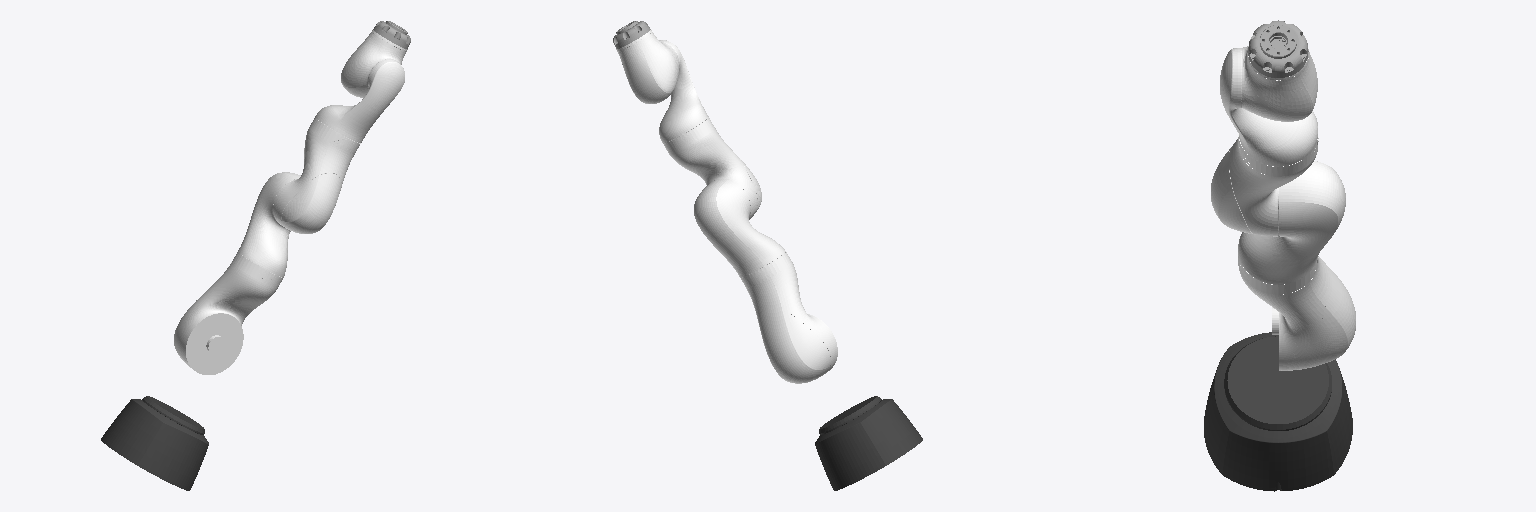
robot.urdf — lbrMed_withBaseLink_Frames.sldasm:
<?xml version="1.0" encoding="utf-8"?>
<!-- This URDF was automatically created by SolidWorks to URDF Exporter! Originally created by [author] ([email redacted]) 
     Commit Version: 1.5.1-0-g916b5db  Build Version: 1.5.7152.31018
     For more information, please see http://wiki.ros.org/sw_urdf_exporter -->
<robot
  name="lbrMed_withBaseLink_Frames.sldasm">
  <link
    name="ROBERT_platform">
    <inertial>
      <origin
        xyz="0.0036381 -6.431E-05 0.45105"
        rpy="0 0 0" />
      <mass
        value="19.445" />
      <inertia
        ixx="0.69187"
        ixy="-0.0004376"
        ixz="0.013118"
        iyy="0.4732"
        iyz="0.00043165"
        izz="0.651" />
    </inertial>
    <visual>
      <origin
        xyz="0 0 0"
        rpy="0 0 0" />
      <geometry>
        <mesh
          filename="package://lbrMed_withBaseLink_Frames.sldasm/meshes/ROBERT_platform.STL" />
      </geometry>
      <material
        name="">
        <color
          rgba="0.52 0.52 0.52 1" />
      </material>
    </visual>
    <collision>
      <origin
        xyz="0 0 0"
        rpy="0 0 0" />
      <geometry>
        <mesh
          filename="package://lbrMed_withBaseLink_Frames.sldasm/meshes/ROBERT_platform.STL" />
      </geometry>
    </collision>
  </link>
  <link
    name="ROBERT_base">
    <inertial>
      <origin
        xyz="0.041359 4.9507E-08 0.99543"
        rpy="0 0 0" />
      <mass
        value="6.0056" />
      <inertia
        ixx="0.036487"
        ixy="2.0024E-08"
        ixz="0.0057256"
        iyy="0.033522"
        iyz="-2.2832E-08"
        izz="0.041893" />
    </inertial>
    <visual>
      <origin
        xyz="0 0 0"
        rpy="0 0 0" />
      <geometry>
        <mesh
          filename="package://lbrMed_withBaseLink_Frames.sldasm/meshes/ROBERT_base.STL" />
      </geometry>
      <material
        name="">
        <color
          rgba="0.32 0.32 0.32 1" />
      </material>
    </visual>
    <collision>
      <origin
        xyz="0 0 0"
        rpy="0 0 0" />
      <geometry>
        <mesh
          filename="package://lbrMed_withBaseLink_Frames.sldasm/meshes/ROBERT_base.STL" />
      </geometry>
    </collision>
  </link>
  <joint
    name="ROBERT_fixed"
    type="fixed">
    <origin
      xyz="0 0 0"
      rpy="0 0 0" />
    <parent
      link="ROBERT_platform" />
    <child
      link="ROBERT_base" />
    <axis
      xyz="0 0 0" />
    <limit
      lower="-2.967"
      upper="2.967"
      effort="10"
      velocity="3" />
  </joint>
  <link
    name="ROBERT_shoulder">
    <inertial>
      <origin
        xyz="-1.0921E-06 -0.033794 0.1277"
        rpy="0 0 0" />
      <mass
        value="4.1086" />
      <inertia
        ixx="0.032982"
        ixy="4.1814E-08"
        ixz="3.7416E-07"
        iyy="0.033274"
        iyz="0.0049257"
        izz="0.012326" />
    </inertial>
    <visual>
      <origin
        xyz="0 0 0"
        rpy="0 0 0" />
      <geometry>
        <mesh
          filename="package://lbrMed_withBaseLink_Frames.sldasm/meshes/ROBERT_shoulder.STL" />
      </geometry>
      <material
        name="">
        <color
          rgba="1 1 1 1" />
      </material>
    </visual>
    <collision>
      <origin
        xyz="0 0 0"
        rpy="0 0 0" />
      <geometry>
        <mesh
          filename="package://lbrMed_withBaseLink_Frames.sldasm/meshes/ROBERT_shoulder.STL" />
      </geometry>
    </collision>
  </link>
  <joint
    name="ROBERT_joint1"
    type="revolute">
    <origin
      xyz="0.085578 0 1.0553"
      rpy="0 0.61087 0" />
    <parent
      link="ROBERT_base" />
    <child
      link="ROBERT_shoulder" />
    <axis
      xyz="0 0 -1" />
    <limit
      lower="-2.967"
      upper="2.967"
      effort="350"
      velocity="3" />
  </joint>
  <link
    name="ROBERT_lowerArm">
    <inertial>
      <origin
        xyz="0.00013064 -0.07633 0.037544"
        rpy="0 0 0" />
      <mass
        value="4.4185" />
      <inertia
        ixx="0.04286"
        ixy="-4.2906E-05"
        ixz="-2.4964E-05"
        iyy="0.012833"
        iyz="-0.0077921"
        izz="0.041927" />
    </inertial>
    <visual>
      <origin
        xyz="0 0 0"
        rpy="0 0 0" />
      <geometry>
        <mesh
          filename="package://lbrMed_withBaseLink_Frames.sldasm/meshes/ROBERT_lowerArm.STL" />
      </geometry>
      <material
        name="">
        <color
          rgba="1 1 1 1" />
      </material>
    </visual>
    <collision>
      <origin
        xyz="0 0 0"
        rpy="0 0 0" />
      <geometry>
        <mesh
          filename="package://lbrMed_withBaseLink_Frames.sldasm/meshes/ROBERT_lowerArm.STL" />
      </geometry>
    </collision>
  </link>
  <joint
    name="ROBERT_joint2"
    type="revolute">
    <origin
      xyz="0 0 0.2078"
      rpy="-1.5708 0 0" />
    <parent
      link="ROBERT_shoulder" />
    <child
      link="ROBERT_lowerArm" />
    <axis
      xyz="0 0 -1" />
    <limit
      lower="-2.0943"
      upper="2.0943"
      effort="350"
      velocity="3" />
  </joint>
  <link
    name="ROBERT_elbow">
    <inertial>
      <origin
        xyz="1.8351E-06 0.034909 0.11381"
        rpy="0 0 0" />
      <mass
        value="2.6884" />
      <inertia
        ixx="0.016871"
        ixy="9.3037E-08"
        ixz="-1.4954E-07"
        iyy="0.016102"
        iyz="-0.0029863"
        izz="0.005981" />
    </inertial>
    <visual>
      <origin
        xyz="0 0 0"
        rpy="0 0 0" />
      <geometry>
        <mesh
          filename="package://lbrMed_withBaseLink_Frames.sldasm/meshes/ROBERT_elbow.STL" />
      </geometry>
      <material
        name="">
        <color
          rgba="1 1 1 1" />
      </material>
    </visual>
    <collision>
      <origin
        xyz="0 0 0"
        rpy="0 0 0" />
      <geometry>
        <mesh
          filename="package://lbrMed_withBaseLink_Frames.sldasm/meshes/ROBERT_elbow.STL" />
      </geometry>
    </collision>
  </link>
  <joint
    name="ROBERT_joint3"
    type="revolute">
    <origin
      xyz="0 -0.2373 0"
      rpy="1.5708 0 0" />
    <parent
      link="ROBERT_lowerArm" />
    <child
      link="ROBERT_elbow" />
    <axis
      xyz="0 0 -1" />
    <limit
      lower="-2.967"
      upper="2.967"
      effort="350"
      velocity="3" />
  </joint>
  <link
    name="ROBERT_upperArm">
    <inertial>
      <origin
        xyz="-7.4267E-08 0.086942 0.02979"
        rpy="0 0 0" />
      <mass
        value="3.2026" />
      <inertia
        ixx="0.025176"
        ixy="-7.1194E-09"
        ixz="2.082E-07"
        iyy="0.0076769"
        iyz="0.004677"
        izz="0.023892" />
    </inertial>
    <visual>
      <origin
        xyz="0 0 0"
        rpy="0 0 0" />
      <geometry>
        <mesh
          filename="package://lbrMed_withBaseLink_Frames.sldasm/meshes/ROBERT_upperArm.STL" />
      </geometry>
      <material
        name="">
        <color
          rgba="1 1 1 1" />
      </material>
    </visual>
    <collision>
      <origin
        xyz="0 0 0"
        rpy="0 0 0" />
      <geometry>
        <mesh
          filename="package://lbrMed_withBaseLink_Frames.sldasm/meshes/ROBERT_upperArm.STL" />
      </geometry>
    </collision>
  </link>
  <joint
    name="ROBERT_joint4"
    type="revolute">
    <origin
      xyz="0 0.0005 0.1827"
      rpy="1.5708 0 0" />
    <parent
      link="ROBERT_elbow" />
    <child
      link="ROBERT_upperArm" />
    <axis
      xyz="0 0 -1" />
    <limit
      lower="-2.0943"
      upper="2.0943"
      effort="350"
      velocity="3" />
  </joint>
  <link
    name="ROBERT_wrist1">
    <inertial>
      <origin
        xyz="9.5301E-07 -0.029822 0.066966"
        rpy="0 0 0" />
      <mass
        value="1.2146" />
      <inertia
        ixx="0.0067395"
        ixy="2.5624E-08"
        ixz="8.1717E-09"
        iyy="0.0056681"
        iyz="0.0022283"
        izz="0.0030564" />
    </inertial>
    <visual>
      <origin
        xyz="0 0 0"
        rpy="0 0 0" />
      <geometry>
        <mesh
          filename="package://lbrMed_withBaseLink_Frames.sldasm/meshes/ROBERT_wrist1.STL" />
      </geometry>
      <material
        name="">
        <color
          rgba="1 1 1 1" />
      </material>
    </visual>
    <collision>
      <origin
        xyz="0 0 0"
        rpy="0 0 0" />
      <geometry>
        <mesh
          filename="package://lbrMed_withBaseLink_Frames.sldasm/meshes/ROBERT_wrist1.STL" />
      </geometry>
    </collision>
  </link>
  <joint
    name="ROBERT_joint5"
    type="revolute">
    <origin
      xyz="0 0.2168 0.0005"
      rpy="-1.5708 0 0" />
    <parent
      link="ROBERT_upperArm" />
    <child
      link="ROBERT_wrist1" />
    <axis
      xyz="0 0 -1" />
    <limit
      lower="-2.967"
      upper="2.967"
      effort="350"
      velocity="3.1416" />
  </joint>
  <link
    name="ROBERT_wrist2">
    <inertial>
      <origin
        xyz="1.7505E-06 -0.0049557 0.061029"
        rpy="0 0 0" />
      <mass
        value="1.9087" />
      <inertia
        ixx="0.0056122"
        ixy="-3.928E-08"
        ixz="4.0496E-07"
        iyy="0.0036753"
        iyz="-0.00024707"
        izz="0.0054041" />
    </inertial>
    <visual>
      <origin
        xyz="0 0 0"
        rpy="0 0 0" />
      <geometry>
        <mesh
          filename="package://lbrMed_withBaseLink_Frames.sldasm/meshes/ROBERT_wrist2.STL" />
      </geometry>
      <material
        name="">
        <color
          rgba="1 1 1 1" />
      </material>
    </visual>
    <collision>
      <origin
        xyz="0 0 0"
        rpy="0 0 0" />
      <geometry>
        <mesh
          filename="package://lbrMed_withBaseLink_Frames.sldasm/meshes/ROBERT_wrist2.STL" />
      </geometry>
    </collision>
  </link>
  <joint
    name="ROBERT_joint6"
    type="revolute">
    <origin
      xyz="0 -0.0607 0.1832"
      rpy="-1.5708 0 0" />
    <parent
      link="ROBERT_wrist1" />
    <child
      link="ROBERT_wrist2" />
    <axis
      xyz="0 0 -1" />
    <limit
      lower="-2.0943"
      upper="2.0943"
      effort="350"
      velocity="10" />
  </joint>
  <link
    name="ROBERT_wrist3">
    <inertial>
      <origin
        xyz="-3.0531E-05 -2.9893E-05 0.013782"
        rpy="0 0 0" />
      <mass
        value="0.20609" />
      <inertia
        ixx="0.00013586"
        ixy="1.4059E-08"
        ixz="-6.6731E-09"
        iyy="0.00013585"
        iyz="2.2202E-09"
        izz="0.00023745" />
    </inertial>
    <visual>
      <origin
        xyz="0 0 0"
        rpy="0 0 0" />
      <geometry>
        <mesh
          filename="package://lbrMed_withBaseLink_Frames.sldasm/meshes/ROBERT_wrist3.STL" />
      </geometry>
      <material
        name="">
        <color
          rgba="0.7 0.7 0.7 1" />
      </material>
    </visual>
    <collision>
      <origin
        xyz="0 0 0"
        rpy="0 0 0" />
      <geometry>
        <mesh
          filename="package://lbrMed_withBaseLink_Frames.sldasm/meshes/ROBERT_wrist3.STL" />
      </geometry>
    </collision>
  </link>
  <joint
    name="ROBERT_joint7"
    type="revolute">
    <origin
      xyz="3.3739E-05 -0.091 0.060728"
      rpy="1.5708 0 0" />
    <parent
      link="ROBERT_wrist2" />
    <child
      link="ROBERT_wrist3" />
    <axis
      xyz="0 0 -1" />
    <limit
      lower="-3.0543"
      upper="3.0543"
      effort="350"
      velocity="10" />
  </joint>
  <link
    name="TCP">
    <inertial>
      <origin
        xyz="0.020364 0.00064694 -0.049804"
        rpy="0 0 0" />
      <mass
        value="0.34026" />
      <inertia
        ixx="0.00024233"
        ixy="1.2462E-06"
        ixz="3.7566E-05"
        iyy="0.00026938"
        iyz="8.2397E-07"
        izz="0.00025086" />
    </inertial>
    <visual>
      <origin
        xyz="0 0 0"
        rpy="0 0 0" />
      <geometry>
        <mesh
          filename="package://lbrMed_withBaseLink_Frames.sldasm/meshes/TCP.STL" />
      </geometry>
      <material
        name="">
        <color
          rgba="0.76 0.765 0.78 1" />
      </material>
    </visual>
    <collision>
      <origin
        xyz="0 0 0"
        rpy="0 0 0" />
      <geometry>
        <mesh
          filename="package://lbrMed_withBaseLink_Frames.sldasm/meshes/TCP.STL" />
      </geometry>
    </collision>
  </link>
  <joint
    name="tcp_fixed"
    type="fixed">
    <origin
      xyz="-3.3739E-05 -2.831E-05 0.12113"
      rpy="0 0 3.1416" />
    <parent
      link="ROBERT_wrist3" />
    <child
      link="TCP" />
    <axis
      xyz="0 0 0" />
  </joint>
</robot>

--- What the picture shows (computed from the rendered views, not written in the file) ---
Views: 3 orthographic renders of the robot side by side, from view 1: azimuth 30°, elevation 25°; view 2: azimuth 150°, elevation 25°; view 3: azimuth 270°, elevation 25°.
Model lbrMed_withBaseLink_Frames.sldasm with 10 links and 9 joints (7 revolute, 2 fixed), rooted at ROBERT_platform, posed all joints at 0.
Links seen in each view (by area): view 1: ROBERT_lowerArm, ROBERT_base, ROBERT_upperArm, ROBERT_wrist1, ROBERT_elbow, ROBERT_wrist2, ROBERT_wrist3; view 2: ROBERT_lowerArm, ROBERT_base, ROBERT_elbow, ROBERT_upperArm, ROBERT_wrist2, ROBERT_wrist1, ROBERT_wrist3; view 3: ROBERT_base, ROBERT_elbow, ROBERT_lowerArm, ROBERT_upperArm, ROBERT_wrist1, ROBERT_wrist2, ROBERT_wrist3.
Link boxes in pixels (<box>): ROBERT_lowerArm: <box>174,252,282,374</box>; ROBERT_base: <box>101,396,208,490</box>; ROBERT_upperArm: <box>273,118,360,233</box>; ROBERT_wrist1: <box>315,59,404,142</box>; ROBERT_elbow: <box>238,172,300,277</box>; ROBERT_wrist2: <box>341,30,407,97</box>; ROBERT_wrist3: <box>373,21,410,48</box>; ROBERT_lowerArm: <box>741,252,837,383</box>; ROBERT_base: <box>815,396,922,490</box>; ROBERT_elbow: <box>694,179,785,277</box>; ROBERT_upperArm: <box>663,118,761,219</box>; ROBERT_wrist2: <box>616,30,679,103</box>; ROBERT_wrist1: <box>659,40,708,142</box>; ROBERT_wrist3: <box>613,21,650,48</box>; ROBERT_base: <box>1204,332,1352,491</box>; ROBERT_elbow: <box>1238,161,1345,284</box>; ROBERT_lowerArm: <box>1238,255,1355,370</box>; ROBERT_upperArm: <box>1211,133,1318,236</box>; ROBERT_wrist1: <box>1220,48,1317,166</box>; ROBERT_wrist2: <box>1242,46,1317,121</box>; ROBERT_wrist3: <box>1248,20,1308,77</box>.
Size in the robot's own frame: 0.8836 by 0.2586 by 1.16 metres.
Meshes: 10 distinct files referenced, 7 mesh visuals loaded (7 binary STL); not drawn: 3 (reference not matched to a file when rendering).
